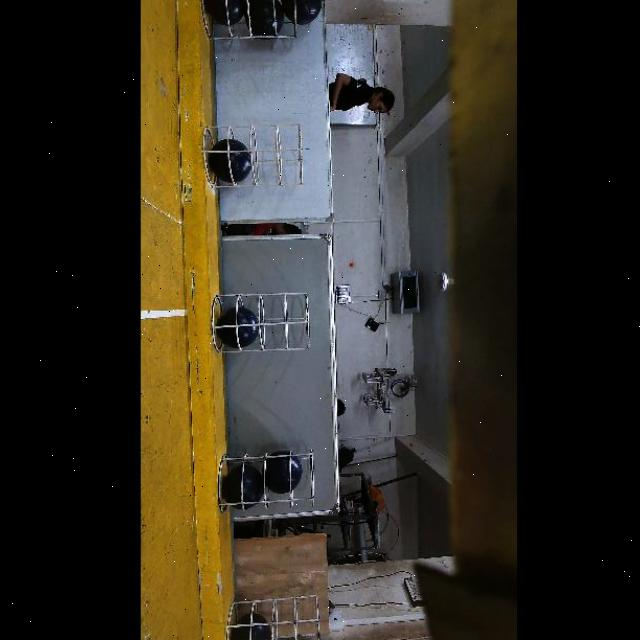P: (209, 138, 252, 184), (223, 465, 263, 511), (217, 306, 259, 349), (262, 450, 302, 494), (244, 0, 284, 40), (205, 0, 246, 26), (281, 0, 322, 25), (231, 614, 270, 640)
S: (214, 448, 320, 520), (212, 285, 314, 355), (206, 128, 304, 192), (228, 600, 324, 640), (203, 0, 299, 38)
